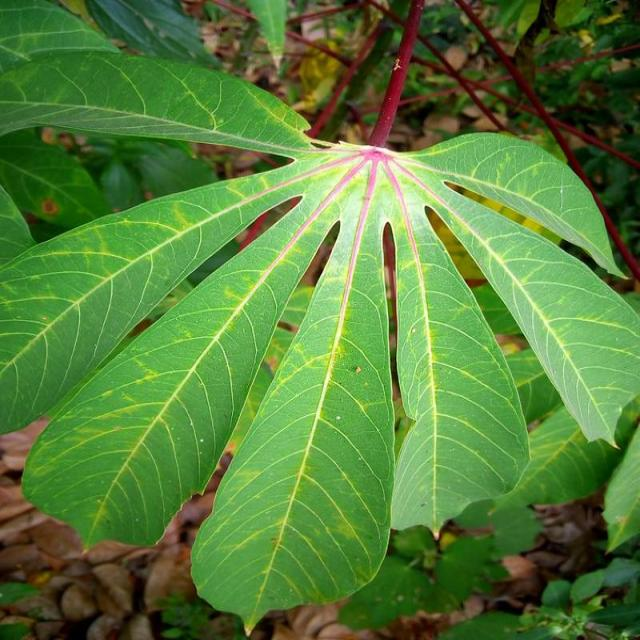cassava leaf: (2, 126, 638, 631), (188, 195, 397, 635)
